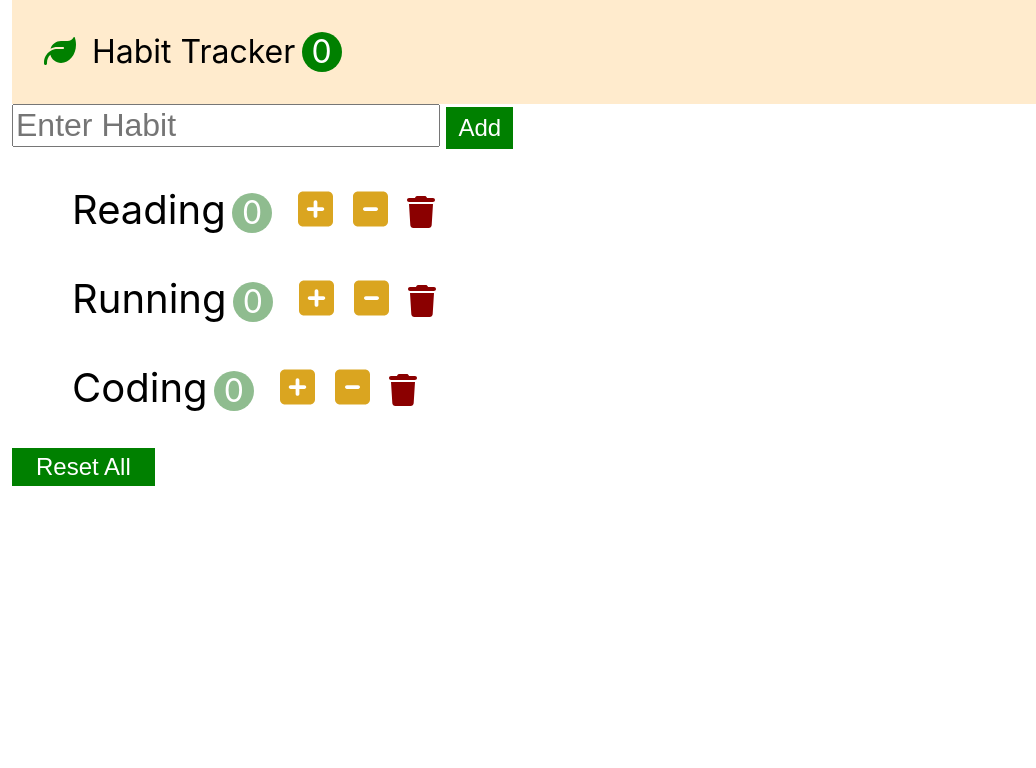
Scenario: Habit Tracker › adds new habit at the end
In the field with placeholder "Enter Habit": (226,126) [12, 104, 440, 147], type "New Habit"
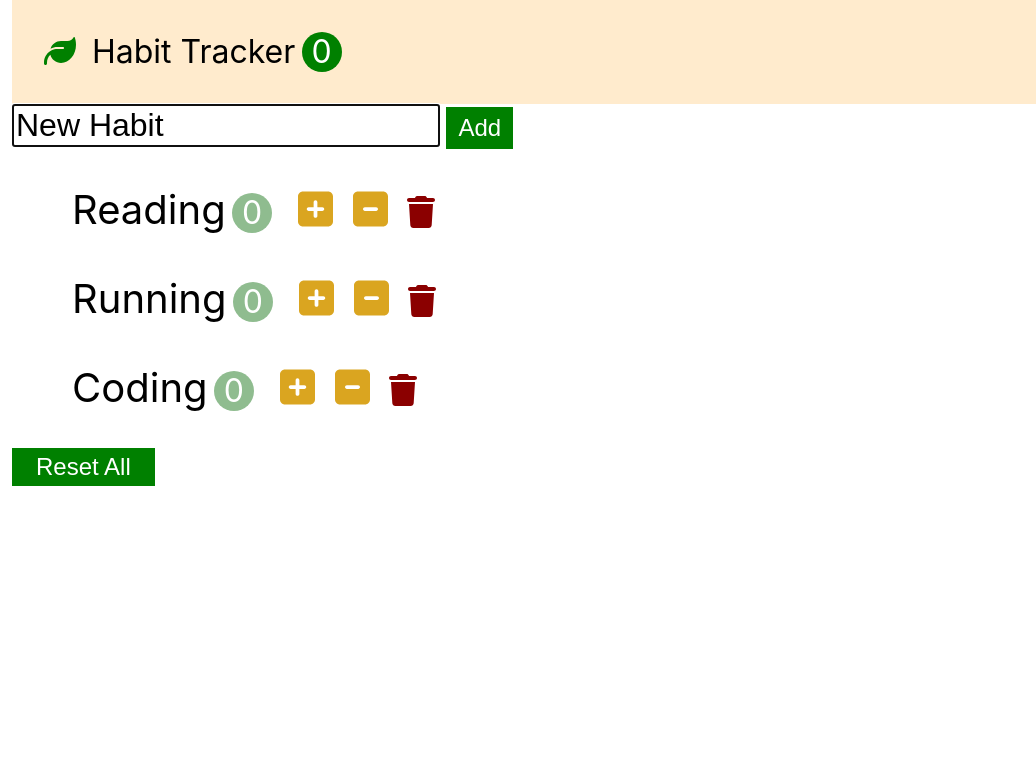
Click the button "Add": (480,128) [446, 107, 513, 149]
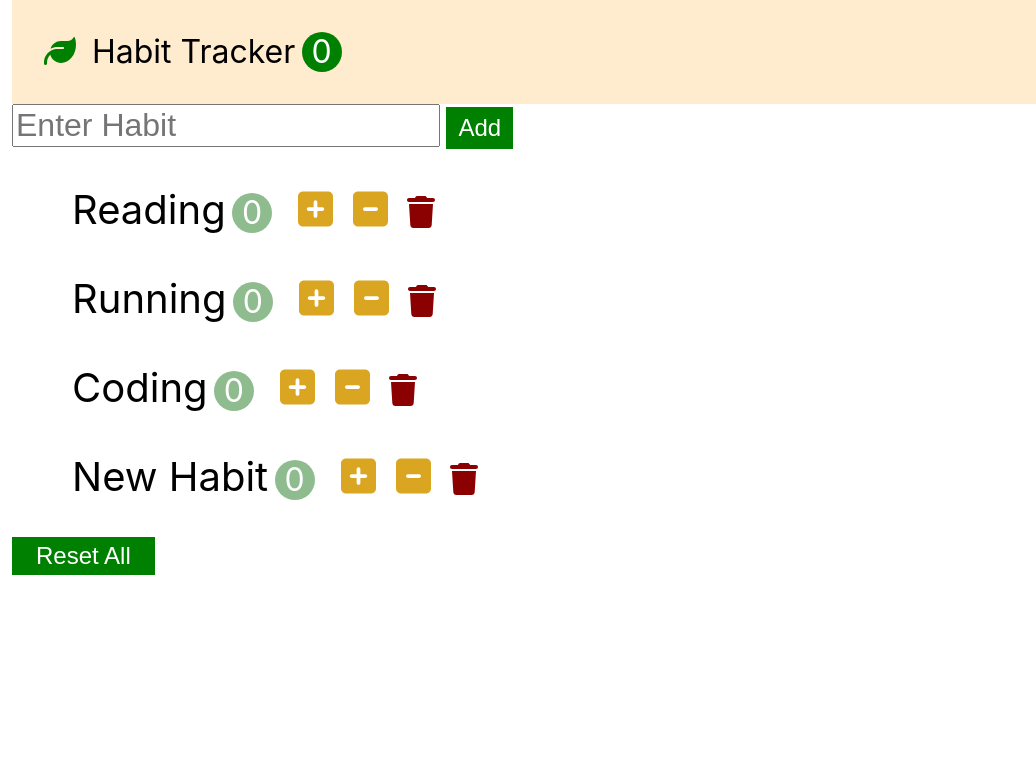
Expected: the text with test id "habit-name" reads "New Habit", [72, 452, 268, 501]
Expected: the text with test id "habit-count" next to "New Habit" reads "0", [275, 460, 315, 500]
